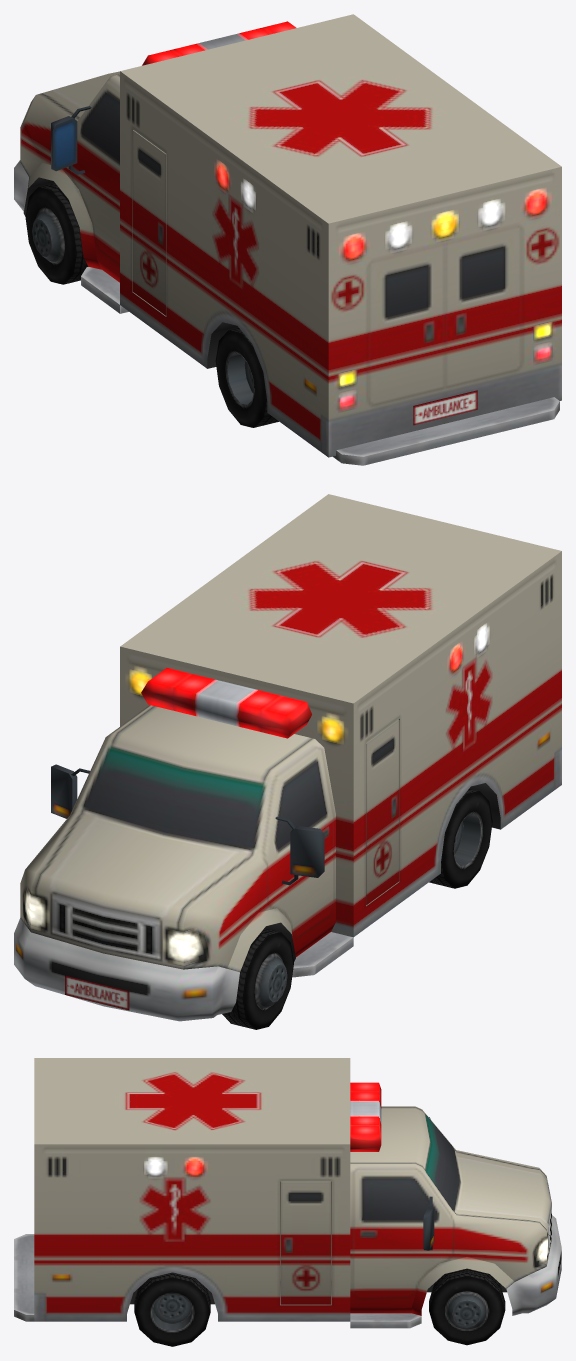
The picture shows the model from 3 angles, top to bottom: view 1: azimuth 30°, elevation 25°; view 2: azimuth 150°, elevation 25°; view 3: azimuth 270°, elevation 25°; orthographic projection. The views are drawn at different scales.
Visible parts, largest first — view 1: node_Ambulance_1A_-3408, node_Drawer_-3420, node_Wheel_Front_L_-3422, node_Wheel_Rear_L_-3426; view 2: node_Ambulance_1A_-3408, node_Drawer_-3420, node_Wheel_Front_L_-3422, node_Wheel_Rear_L_-3426; view 3: node_Ambulance_1A_-3408, node_Door_-3418, node_Wheel_Front_R_-3424, node_Wheel_Rear_R_-3428.
Boxes of the visible parts, box(x1,y1,x2,y2) form: node_Ambulance_1A_-3408: box(14, 14, 561, 465); node_Drawer_-3420: box(132, 130, 166, 315); node_Wheel_Front_L_-3422: box(25, 183, 88, 284); node_Wheel_Rear_L_-3426: box(215, 328, 278, 427); node_Ambulance_1A_-3408: box(14, 494, 561, 1021); node_Drawer_-3420: box(366, 719, 399, 905); node_Wheel_Front_L_-3422: box(222, 928, 293, 1029); node_Wheel_Rear_L_-3426: box(429, 788, 492, 888); node_Ambulance_1A_-3408: box(14, 1058, 561, 1328); node_Door_-3418: box(280, 1181, 330, 1304); node_Wheel_Front_R_-3424: box(429, 1268, 505, 1345); node_Wheel_Rear_R_-3428: box(134, 1272, 210, 1346).
Bounding box in the file's own units: 2.77 × 2.61 × 6.36.
1 material, 1 textured.
